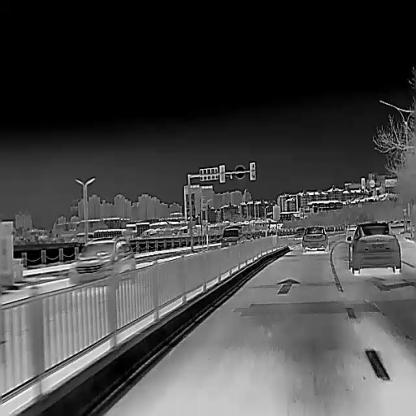car: (69, 235, 136, 284), (349, 221, 401, 273), (301, 225, 328, 251), (221, 225, 242, 248), (345, 224, 358, 242), (293, 226, 304, 239)
